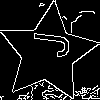J: (23, 28, 71, 59)
